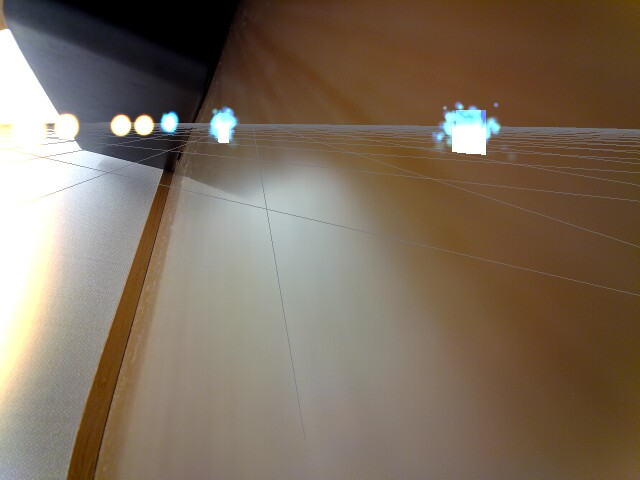firebig: (3, 151, 71, 388)
